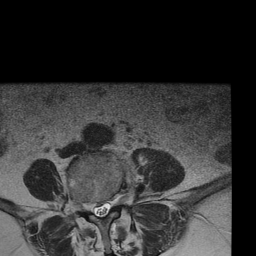CCS_stenosis: (98, 194, 105, 224)
LFS_normal: (112, 187, 120, 214)
LLS_normal: (105, 193, 113, 218)
RFS_normal: (83, 194, 91, 219)
RLS_normal: (91, 195, 98, 220)
